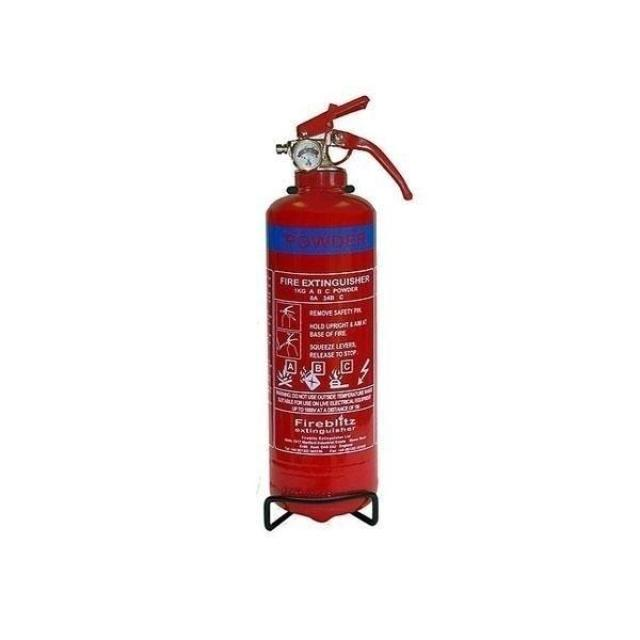fire_extinguisher: (254, 89, 420, 524)
